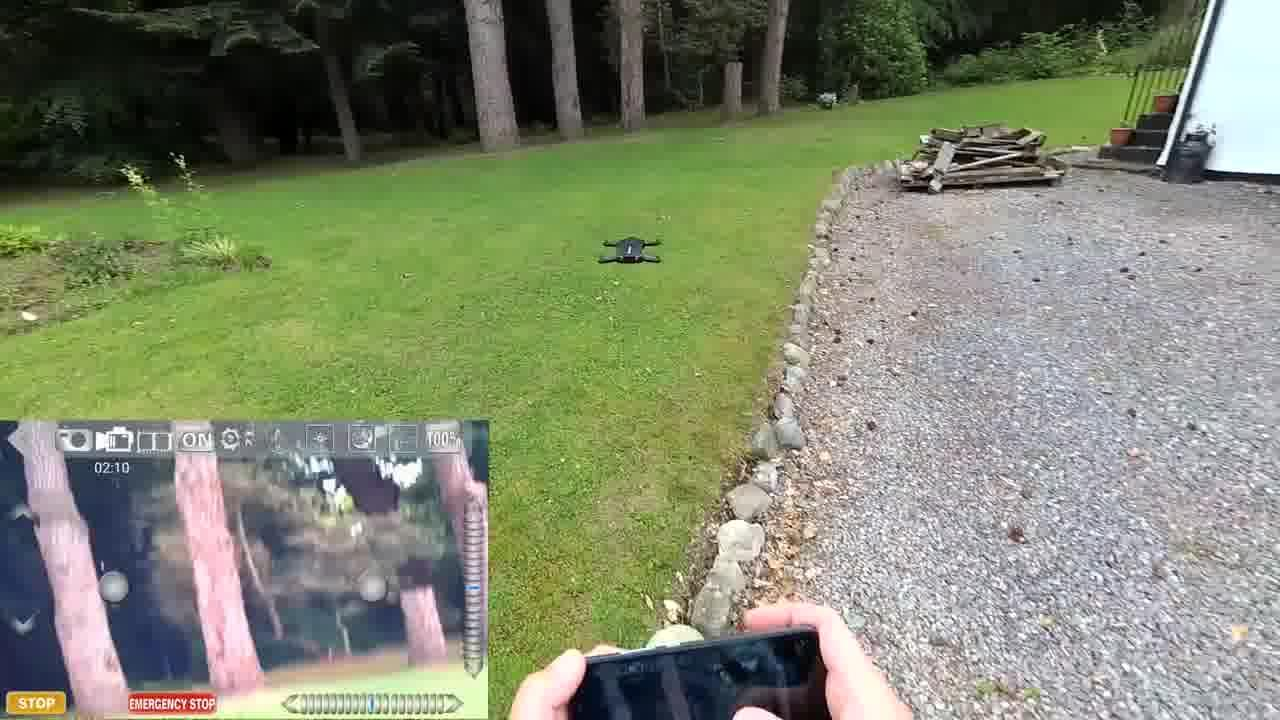drone: (592, 234, 677, 271)
